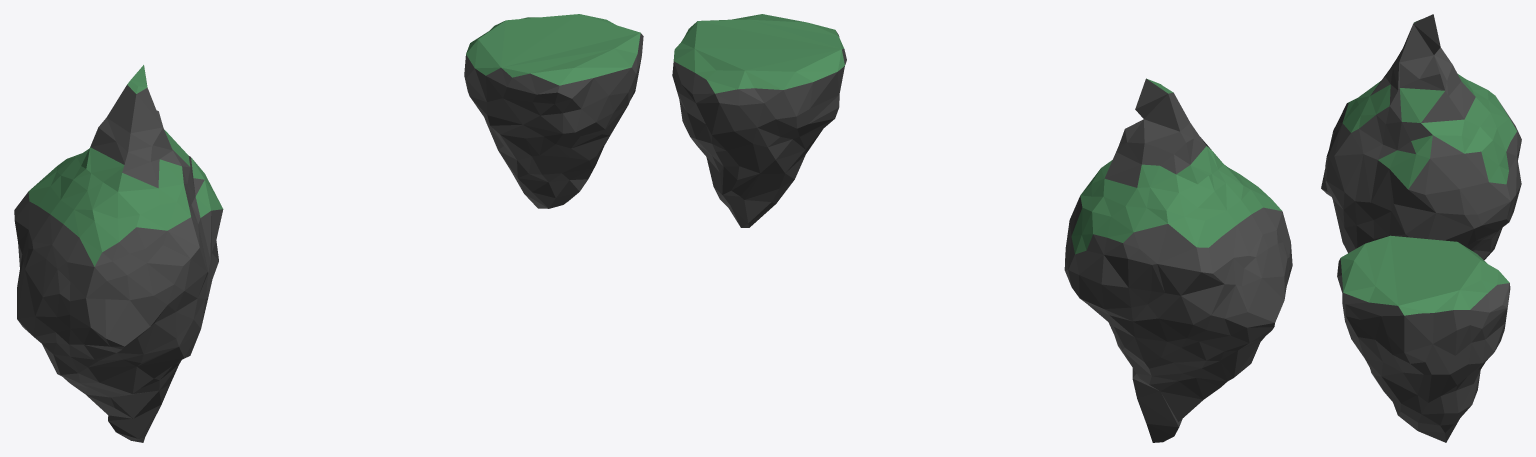
The model's file is Island Fragments.fbx.
3 renders of one model, left to right at view 1: azimuth 30°, elevation 25°; view 2: azimuth 150°, elevation 25°; view 3: azimuth 270°, elevation 25°, orthographic. The views are drawn at different scales.
Visible parts, largest first — view 1: Island Fragment 2, Island Fragment 1; view 2: Island Fragment 2, Island Fragment 1; view 3: Island Fragment 2, Island Fragment 1.
Boxes of the visible parts, x1,y1,x2,y2 form: Island Fragment 2: (14,65,223,442); Island Fragment 1: (464,14,643,208); Island Fragment 2: (1064,78,1292,442); Island Fragment 1: (672,14,846,227); Island Fragment 2: (1321,14,1521,260); Island Fragment 1: (1337,235,1510,442).
Size of the model in its own units: 721 by 421 by 213.
